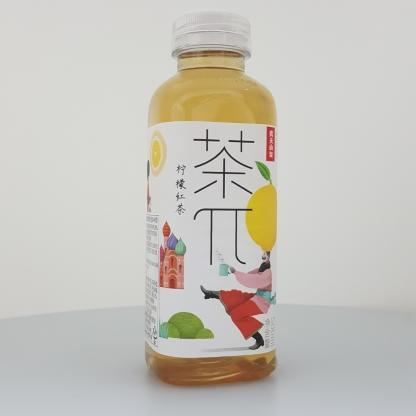------------: (144, 12, 278, 387)
